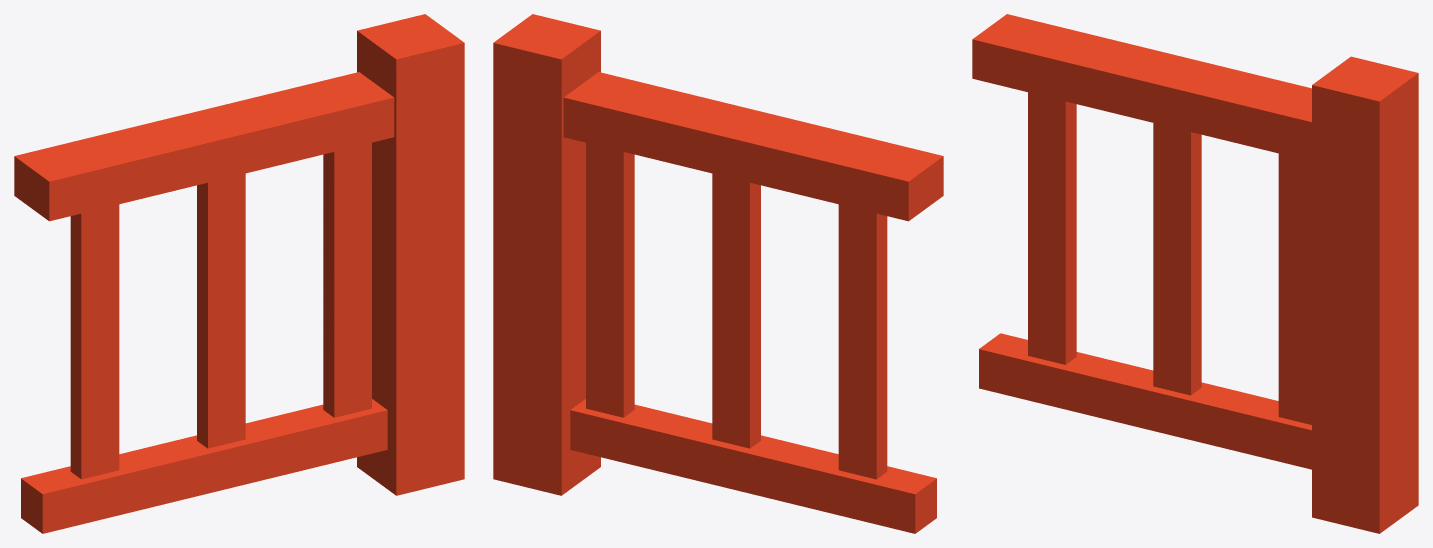
Rendered from SM_Railing_Wood_End.fbx.
3 views of the same model, side by side, from view 1: azimuth 30°, elevation 25°; view 2: azimuth 150°, elevation 25°; view 3: azimuth 330°, elevation 25° (orthographic).
Parts seen in each view (by area): view 1: railing-wood-end; view 2: railing-wood-end; view 3: railing-wood-end.
Boxes of the visible parts, <box> form: railing-wood-end: <box>14,14,464,533</box>; railing-wood-end: <box>493,14,943,533</box>; railing-wood-end: <box>972,14,1418,533</box>.
Bounding box in the file's own units: 1.09 × 1.1 × 0.18.
